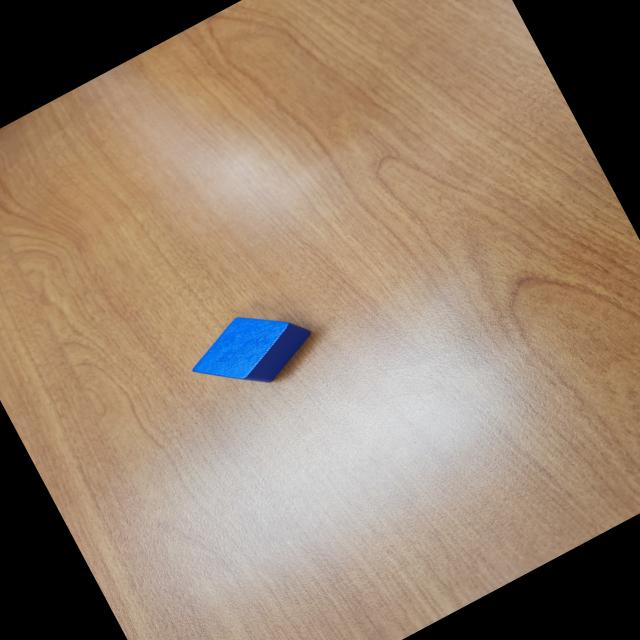blue: (178, 288, 324, 413)
